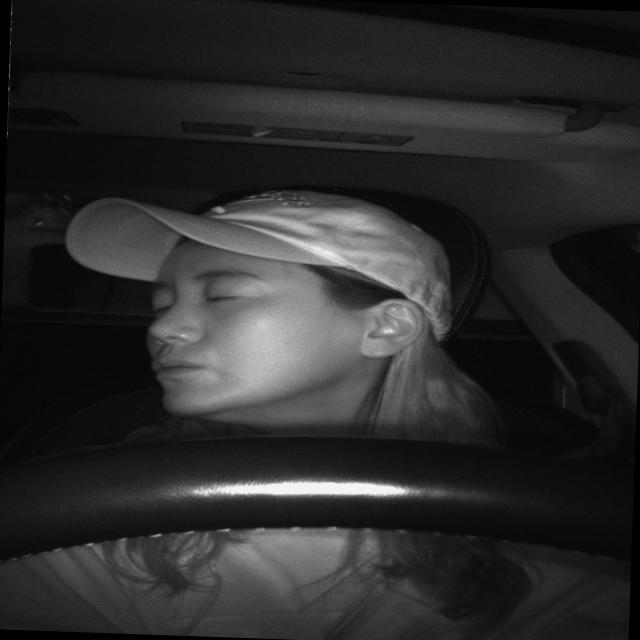Inattentive: (146, 192, 454, 434)
